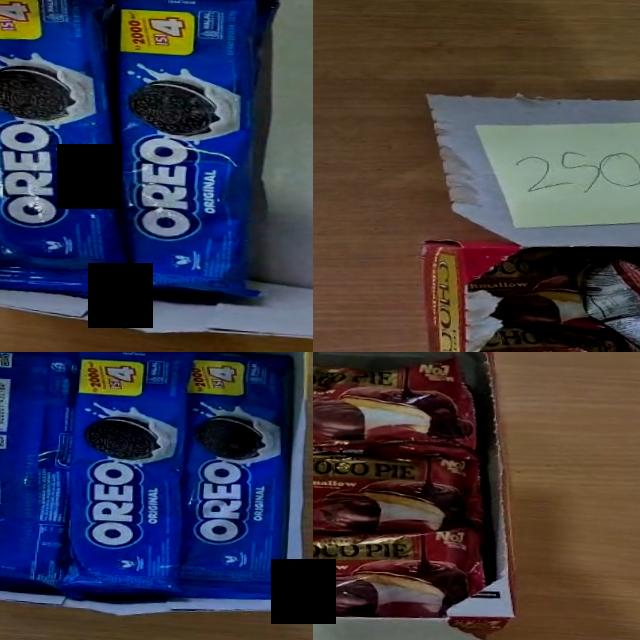Chocopie: (313, 352, 484, 467), (313, 517, 490, 624), (313, 446, 492, 546), (464, 246, 612, 332), (571, 255, 640, 352), (465, 324, 640, 352)
Oreo: (88, 0, 277, 298), (0, 0, 156, 302), (58, 352, 202, 600), (176, 352, 299, 602), (0, 352, 80, 595)
